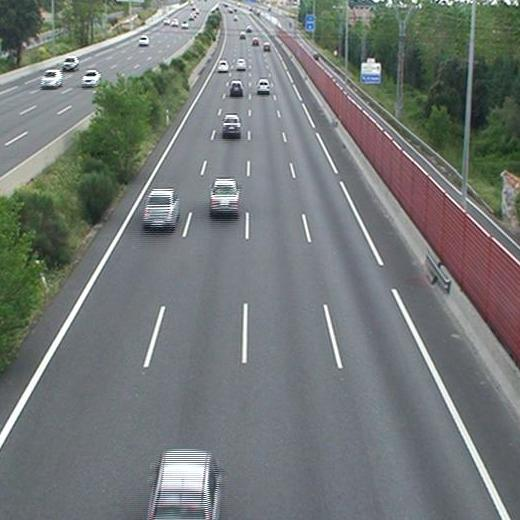car: (148, 450, 221, 520), (144, 190, 179, 226), (211, 179, 239, 212), (222, 115, 240, 134), (230, 82, 244, 95), (258, 80, 270, 92), (235, 59, 246, 70), (218, 61, 228, 72), (263, 42, 270, 53)
